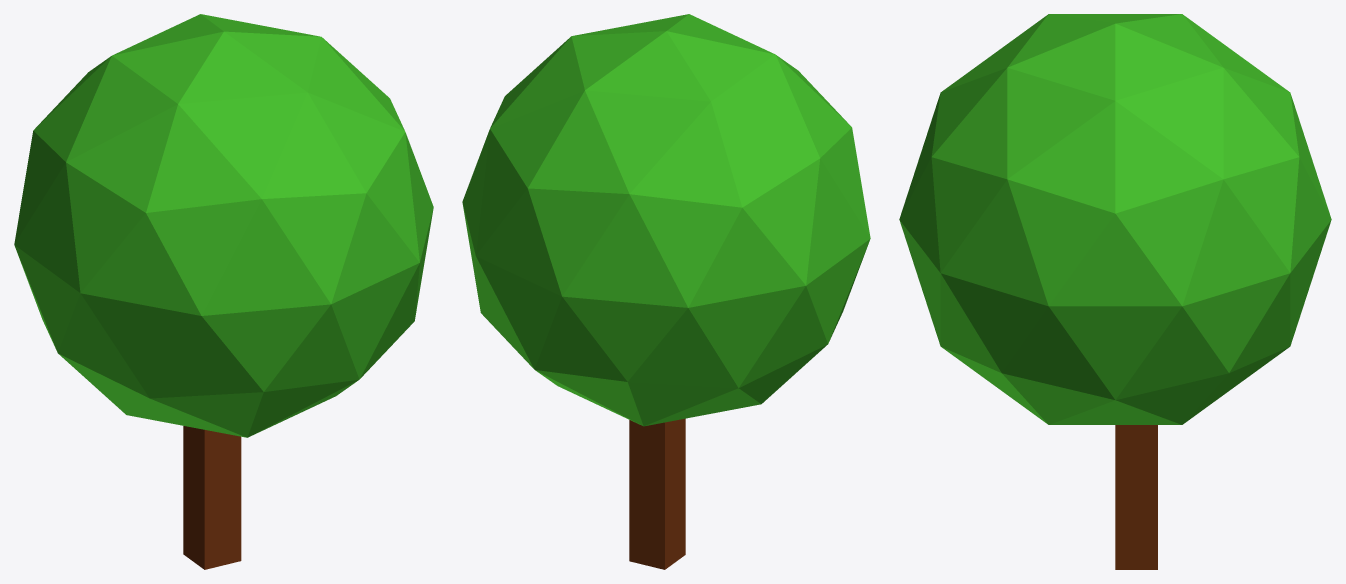
Rendered from tree.gltf.
3 views of the same model, side by side, from view 1: azimuth 30°, elevation 25°; view 2: azimuth 150°, elevation 25°; view 3: azimuth 270°, elevation 25° (orthographic). The views are drawn at different scales.
Visible parts, largest first — view 1: Icosphere, Cube; view 2: Icosphere, Cube; view 3: Icosphere, Cube.
Boxes of the visible parts, left/top/right/bottom form: Icosphere: left=14, top=14, right=433, bottom=437; Cube: left=183, top=426, right=241, bottom=569; Icosphere: left=462, top=14, right=870, bottom=426; Cube: left=629, top=418, right=685, bottom=569; Icosphere: left=899, top=14, right=1331, bottom=424; Cube: left=1115, top=425, right=1157, bottom=569.
Size of the model in its own units: 26.74 by 38.59 by 28.11.
